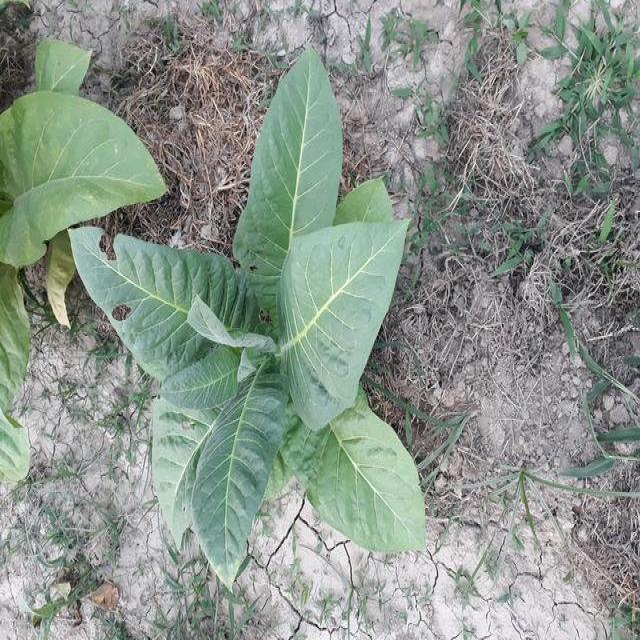crop: (92, 44, 424, 576), (0, 59, 163, 470)
